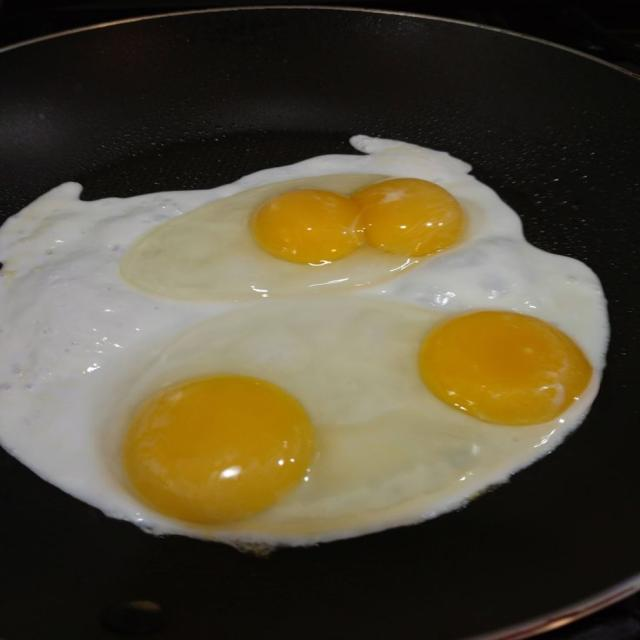fryed egg: (0, 137, 607, 544)
